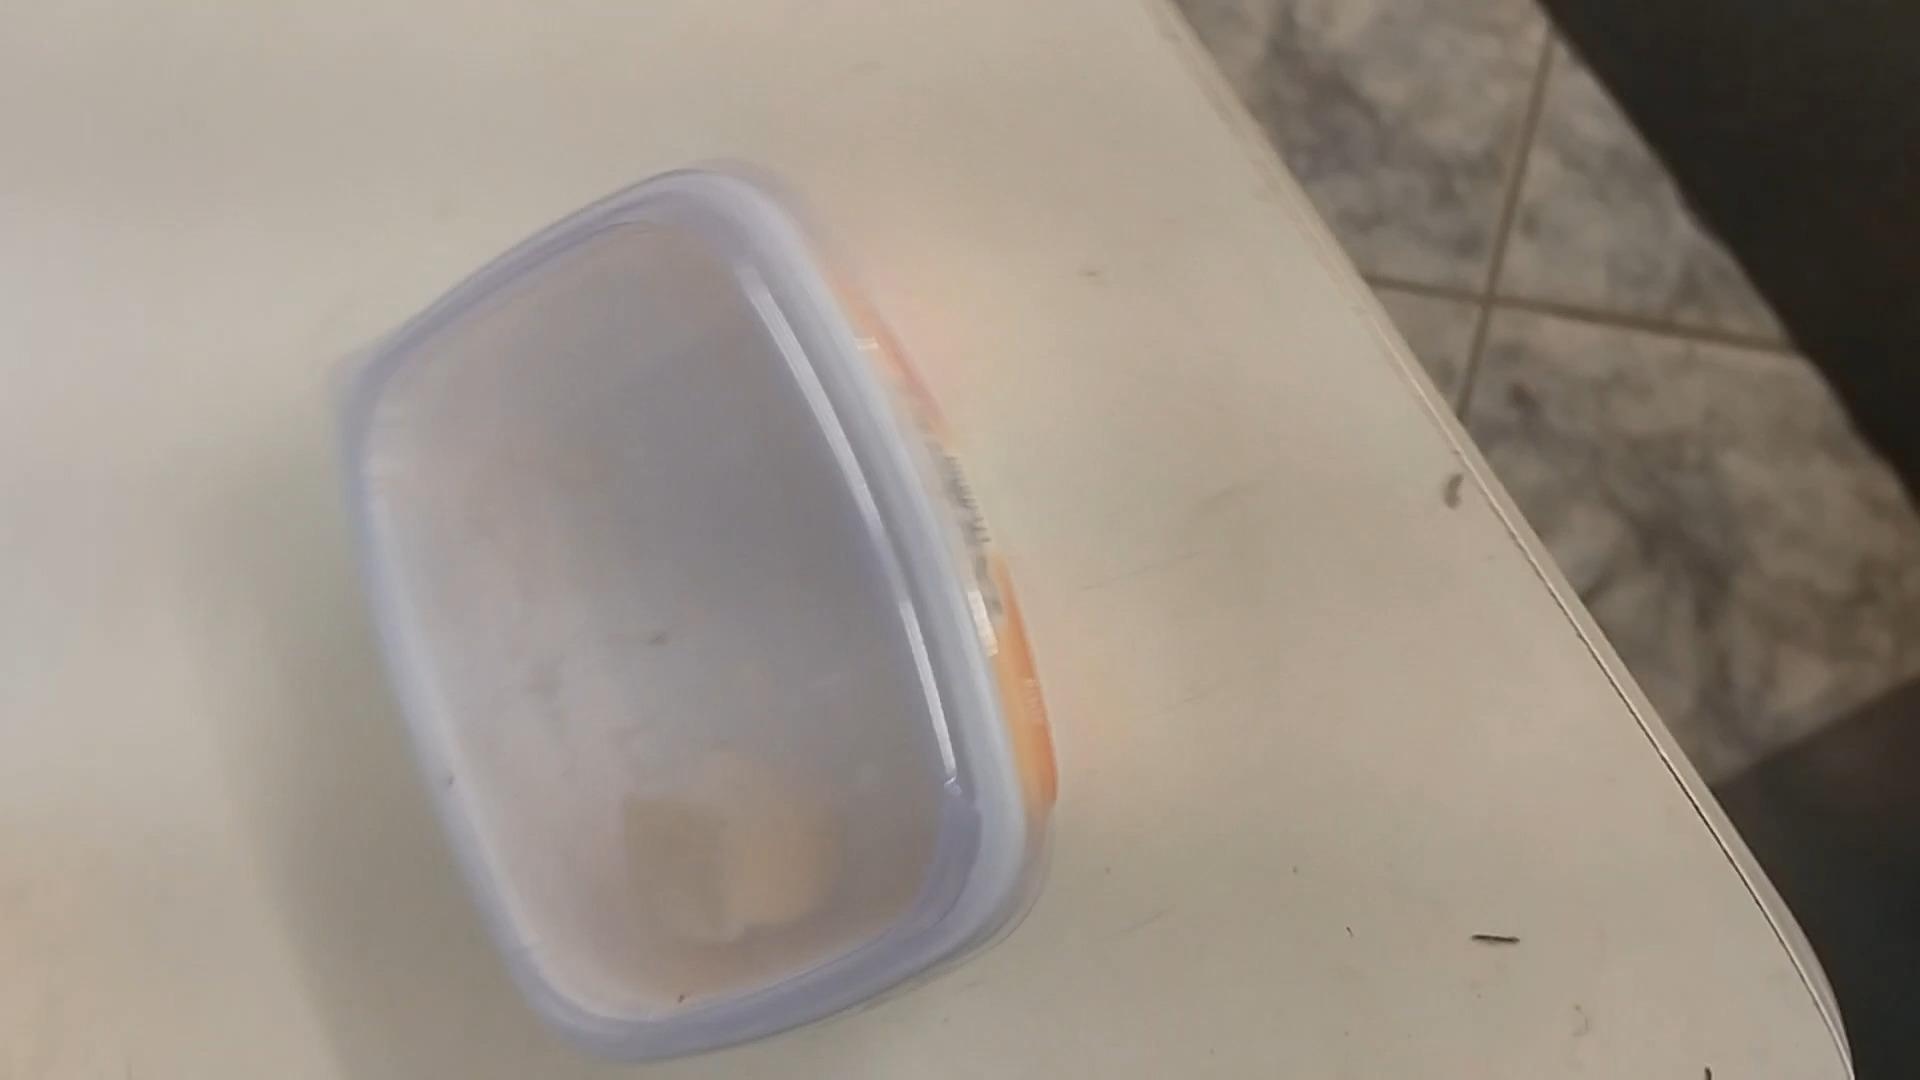butter: (347, 178, 1026, 1059)
